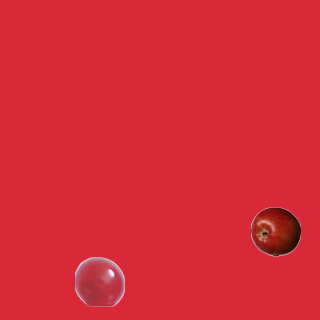Apple Braeburn: (250, 206, 300, 256)
Redcurrant: (74, 256, 124, 306)
